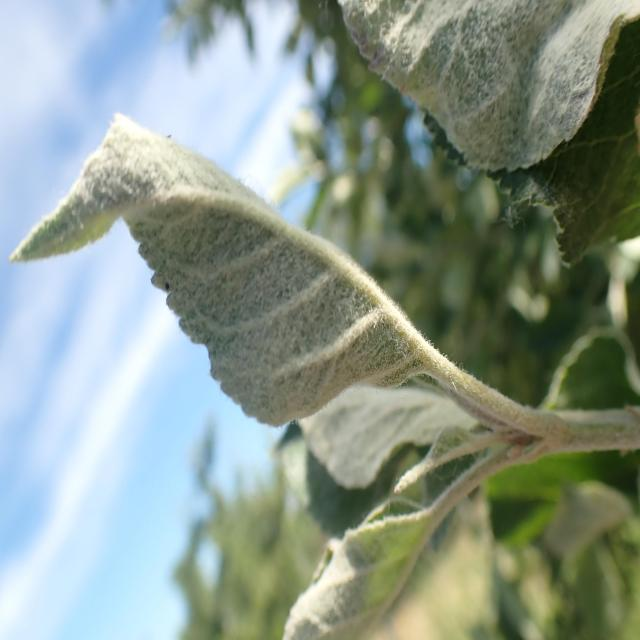Powdery_mildew: (12, 109, 470, 441), (335, 0, 640, 188), (262, 464, 478, 640)
